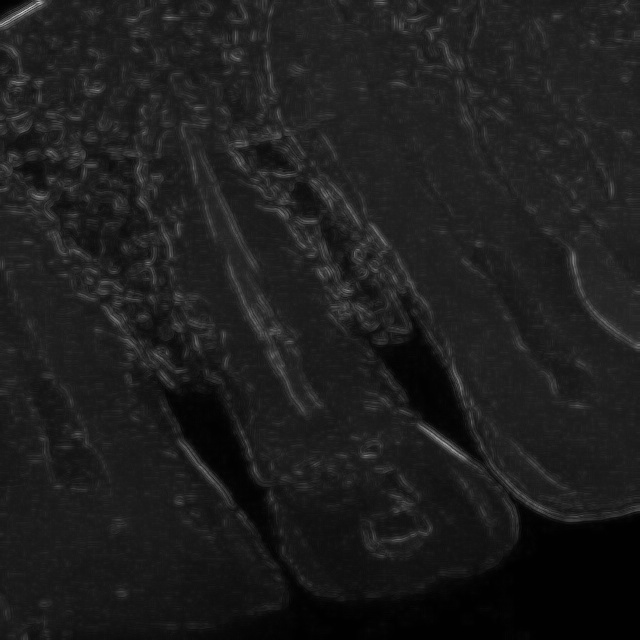Class 0- No endodontic treatment: (60, 96, 503, 466)
